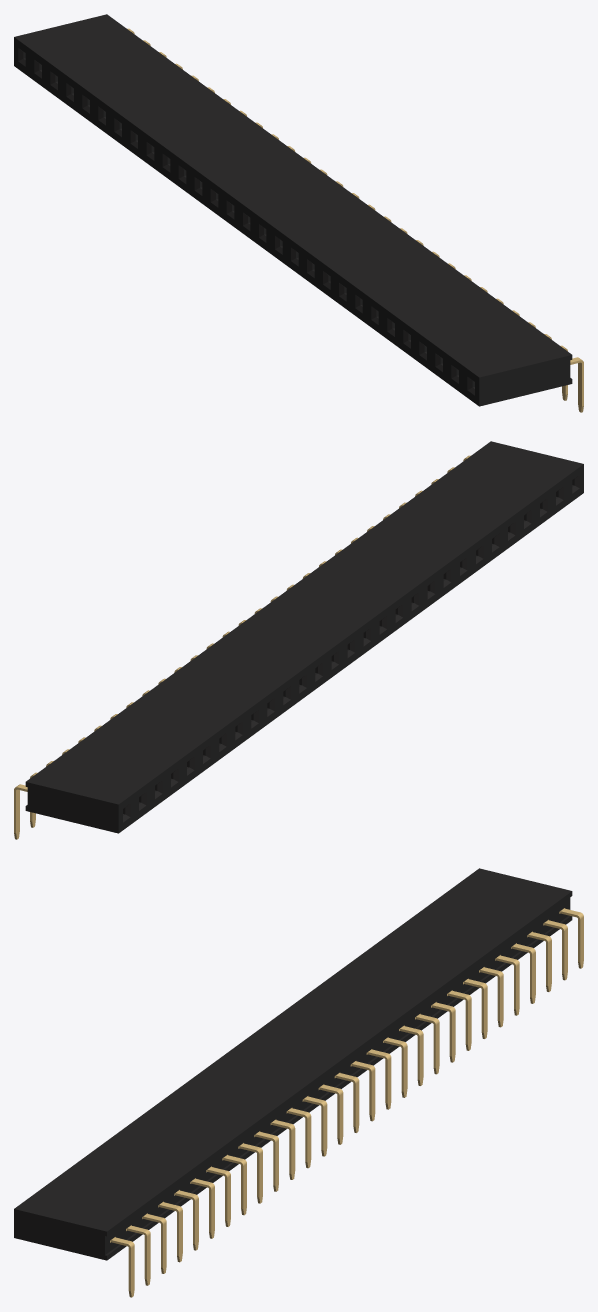
The model's file is kc-pinsocket_1x29_p2.54mm_horizontal.glb.
3 views of the same model, one above another, from view 1: azimuth 30°, elevation 25°; view 2: azimuth 150°, elevation 25°; view 3: azimuth 330°, elevation 25° (orthographic).
Parts seen in each view (by area): view 1: 0_0_0_0, 0.75_0.5_0.25_0.9; view 2: 0_0_0_0, 0.75_0.5_0.25_0.9; view 3: 0_0_0_0, 0.75_0.5_0.25_0.9.
Part boxes in pixels (x1,y1,x2,y2): 0_0_0_0: [14, 14, 572, 406]; 0.75_0.5_0.25_0.9: [127, 28, 583, 412]; 0_0_0_0: [25, 441, 583, 833]; 0.75_0.5_0.25_0.9: [14, 455, 470, 839]; 0_0_0_0: [14, 868, 572, 1260]; 0.75_0.5_0.25_0.9: [110, 908, 583, 1297].
Bounding box in the file's own units: 1.01 × 0.5837 × 7.37.
